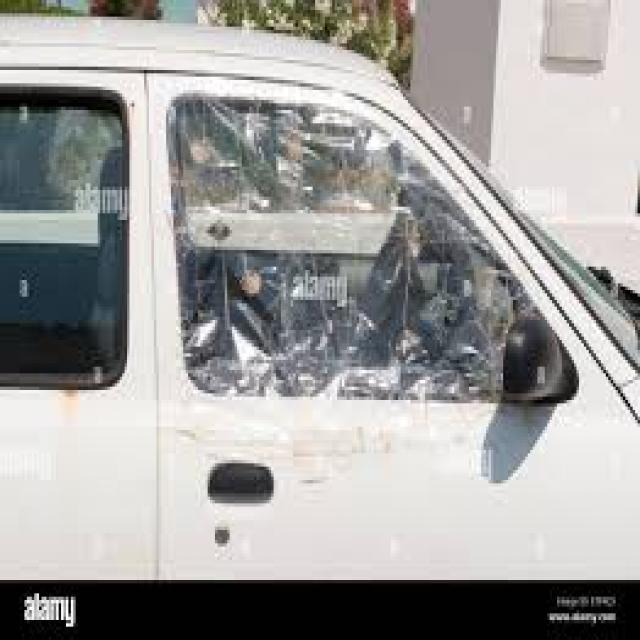damaged-window: (165, 83, 568, 411)
